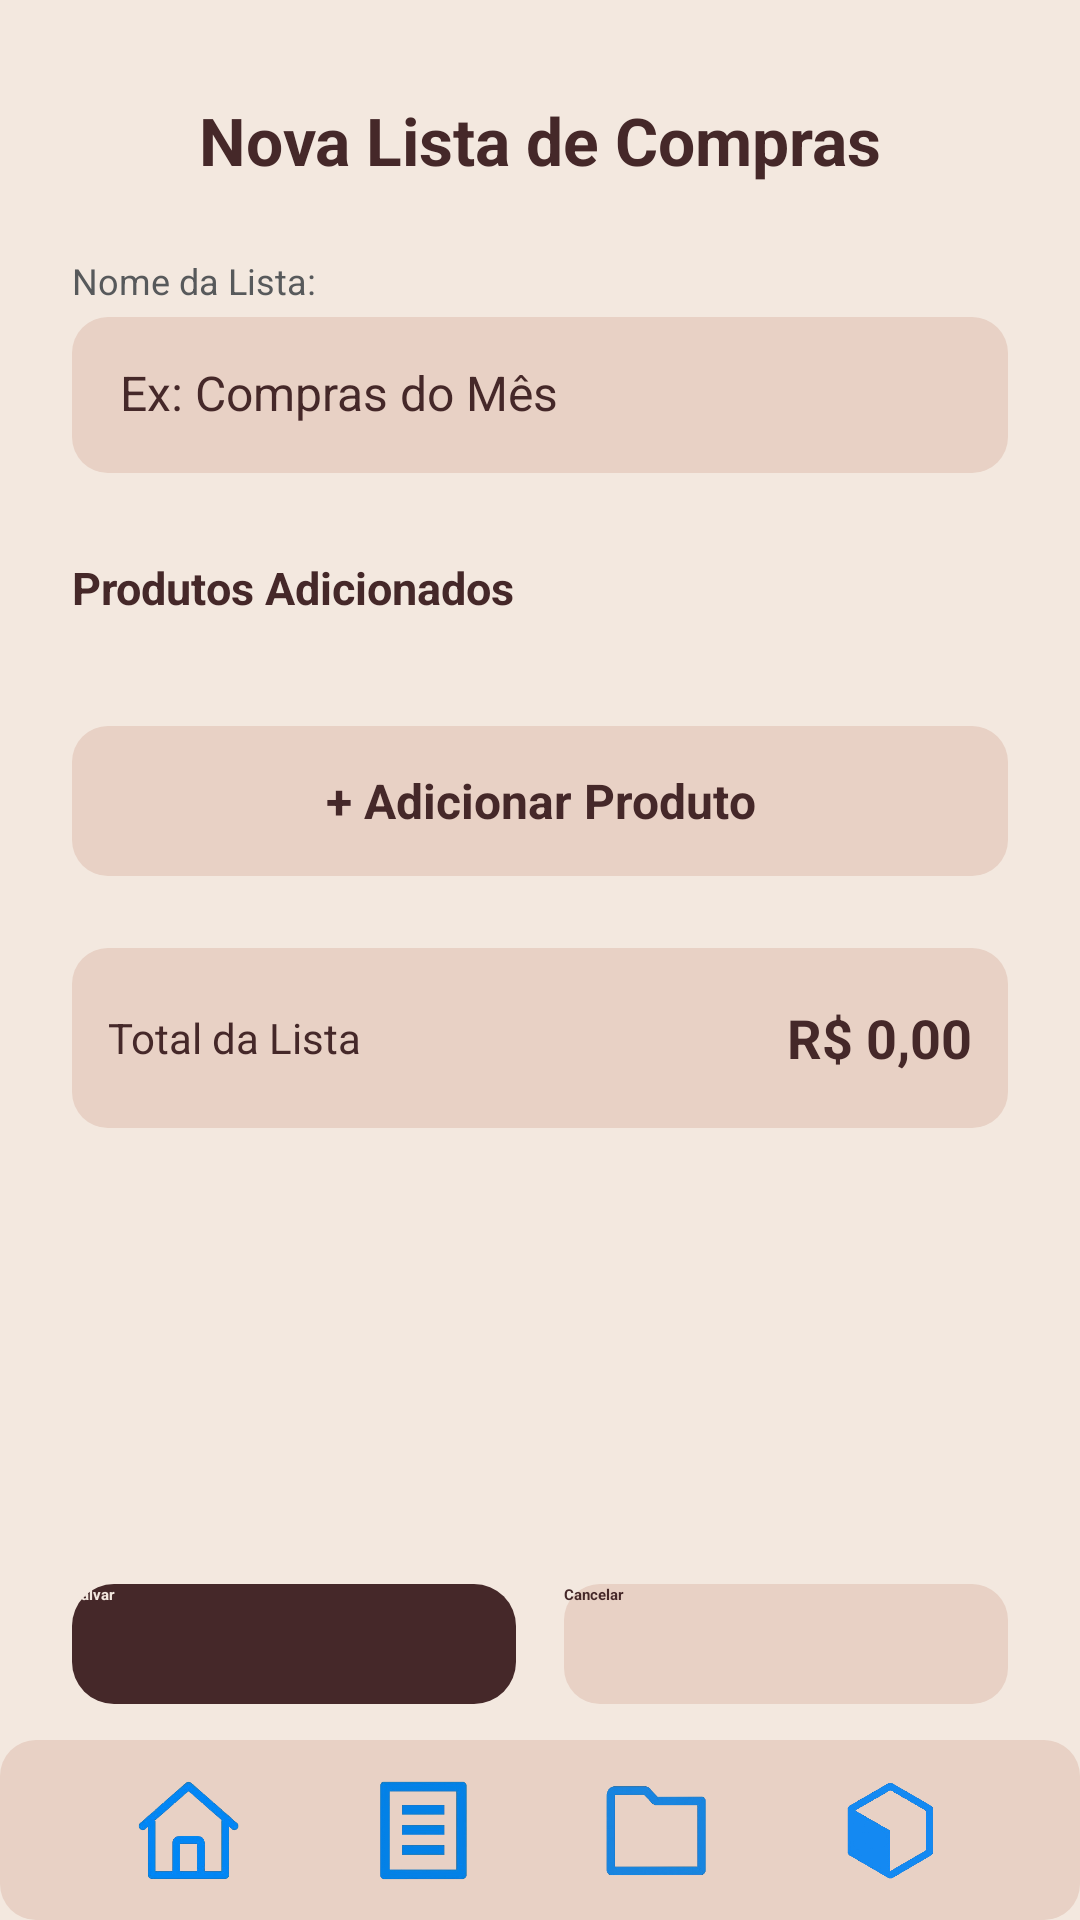

Icon click points for this 1080 × 1920 phone screenshot, format (x=x, y=y):
caixa: (x=890, y=1831)
home: (x=189, y=1830)
lista: (x=423, y=1830)
pasta: (x=656, y=1830)
